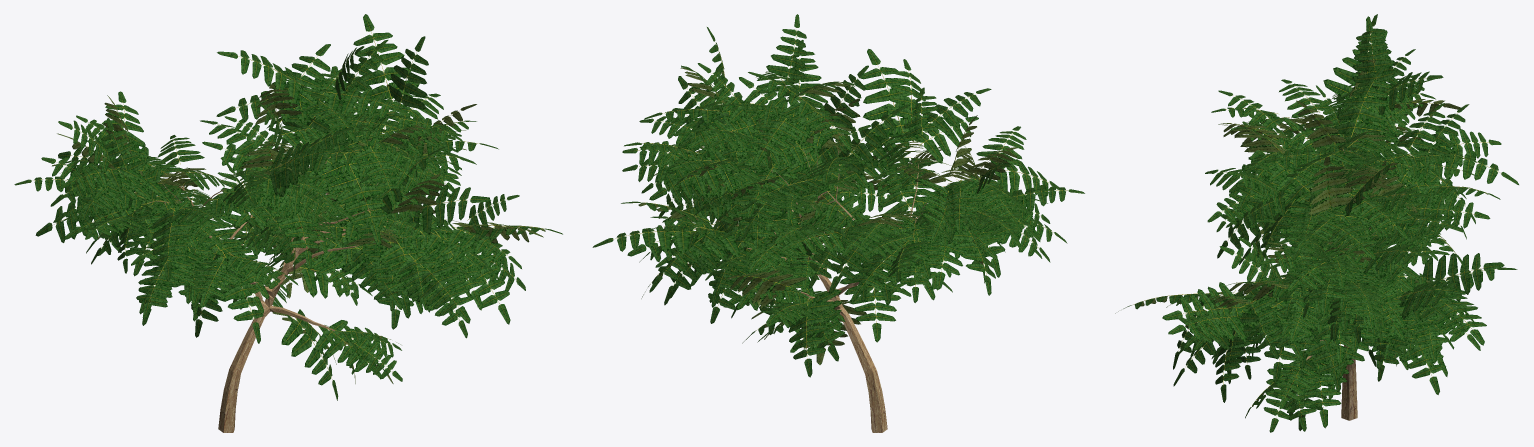
Rendered from acacia.obj.
3 views of the same model, side by side, from view 1: azimuth 30°, elevation 25°; view 2: azimuth 150°, elevation 25°; view 3: azimuth 270°, elevation 25° (orthographic). The views are drawn at different scales.
Parts seen in each view (by area): view 1: twigs_tree.006, tree; view 2: twigs_tree.006, tree; view 3: twigs_tree.006, tree.
Part boxes in pixels (x1,y1,x2,y2): twigs_tree.006: (14,14,562,400); tree: (147,142,406,432); twigs_tree.006: (592,14,1084,377); tree: (737,147,958,432); twigs_tree.006: (1115,14,1518,432); tree: (1276,125,1375,420).
Size of the model in its own units: 771 by 649 by 646.
Materials: 2 (2 with a texture image).
